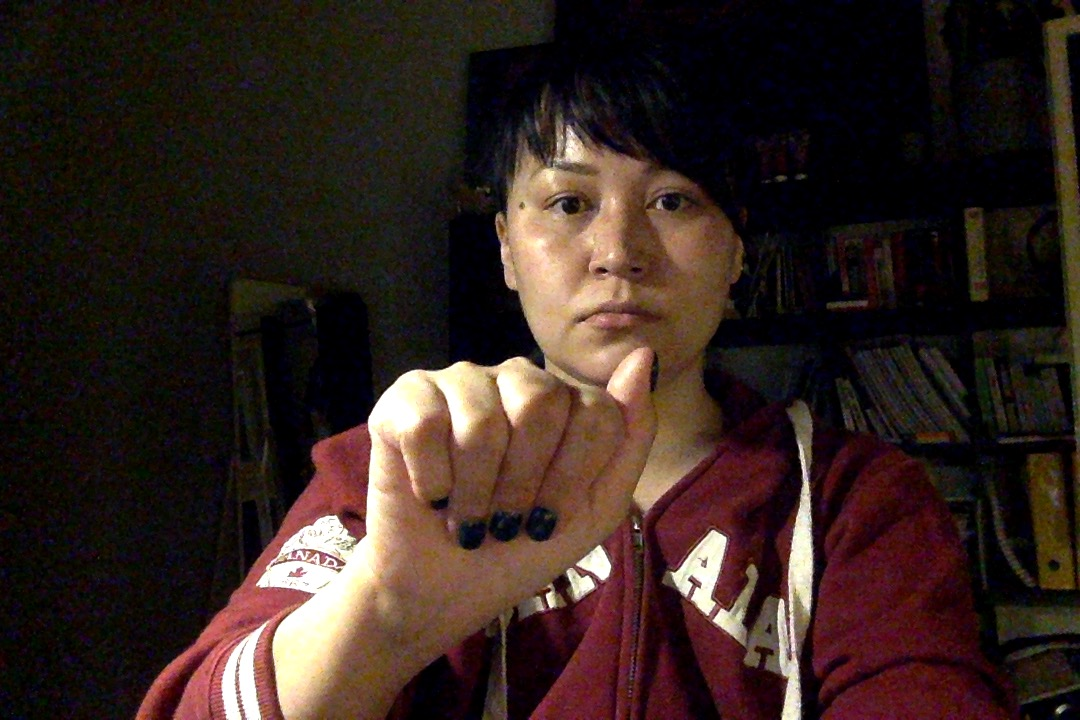a: (328, 331, 671, 671)
